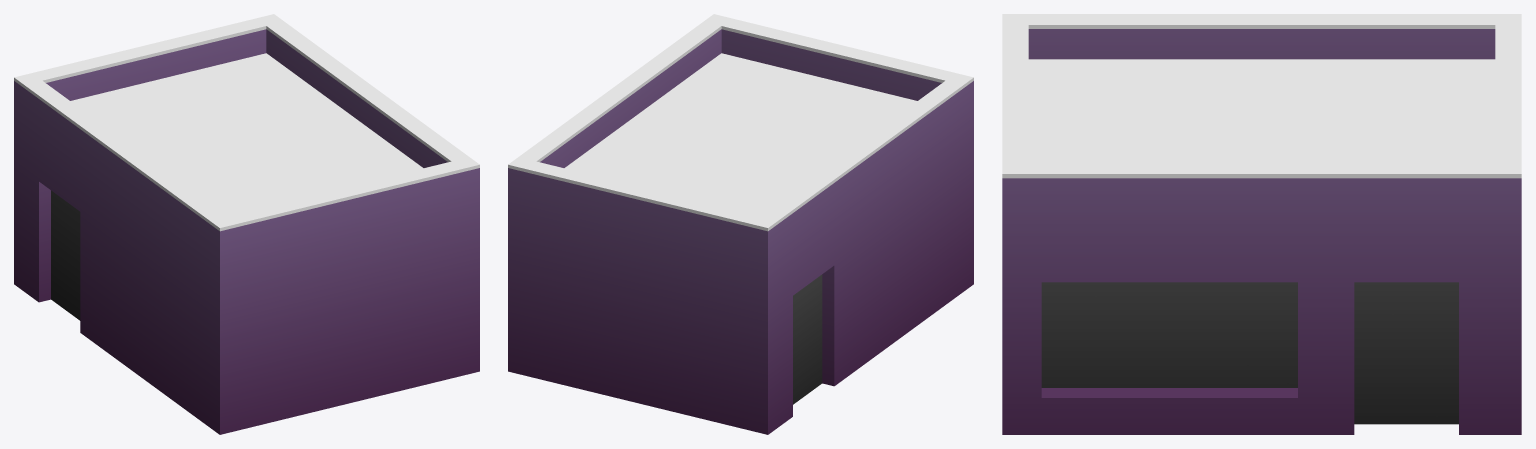
Rendered from build4.fbx.
The picture shows the model from 3 angles, left to right: view 1: azimuth 30°, elevation 25°; view 2: azimuth 150°, elevation 25°; view 3: azimuth 270°, elevation 25°; orthographic projection. The views are drawn at different scales.
Parts seen in each view (by area): view 1: pCube38; view 2: pCube38; view 3: pCube38.
Boxes of the visible parts, x1,y1,x2,y2 form: pCube38: [14, 14, 479, 434]; pCube38: [508, 14, 973, 434]; pCube38: [1002, 14, 1521, 434].
Bounding box in the file's own units: 3.61 × 2.75 × 4.95.
